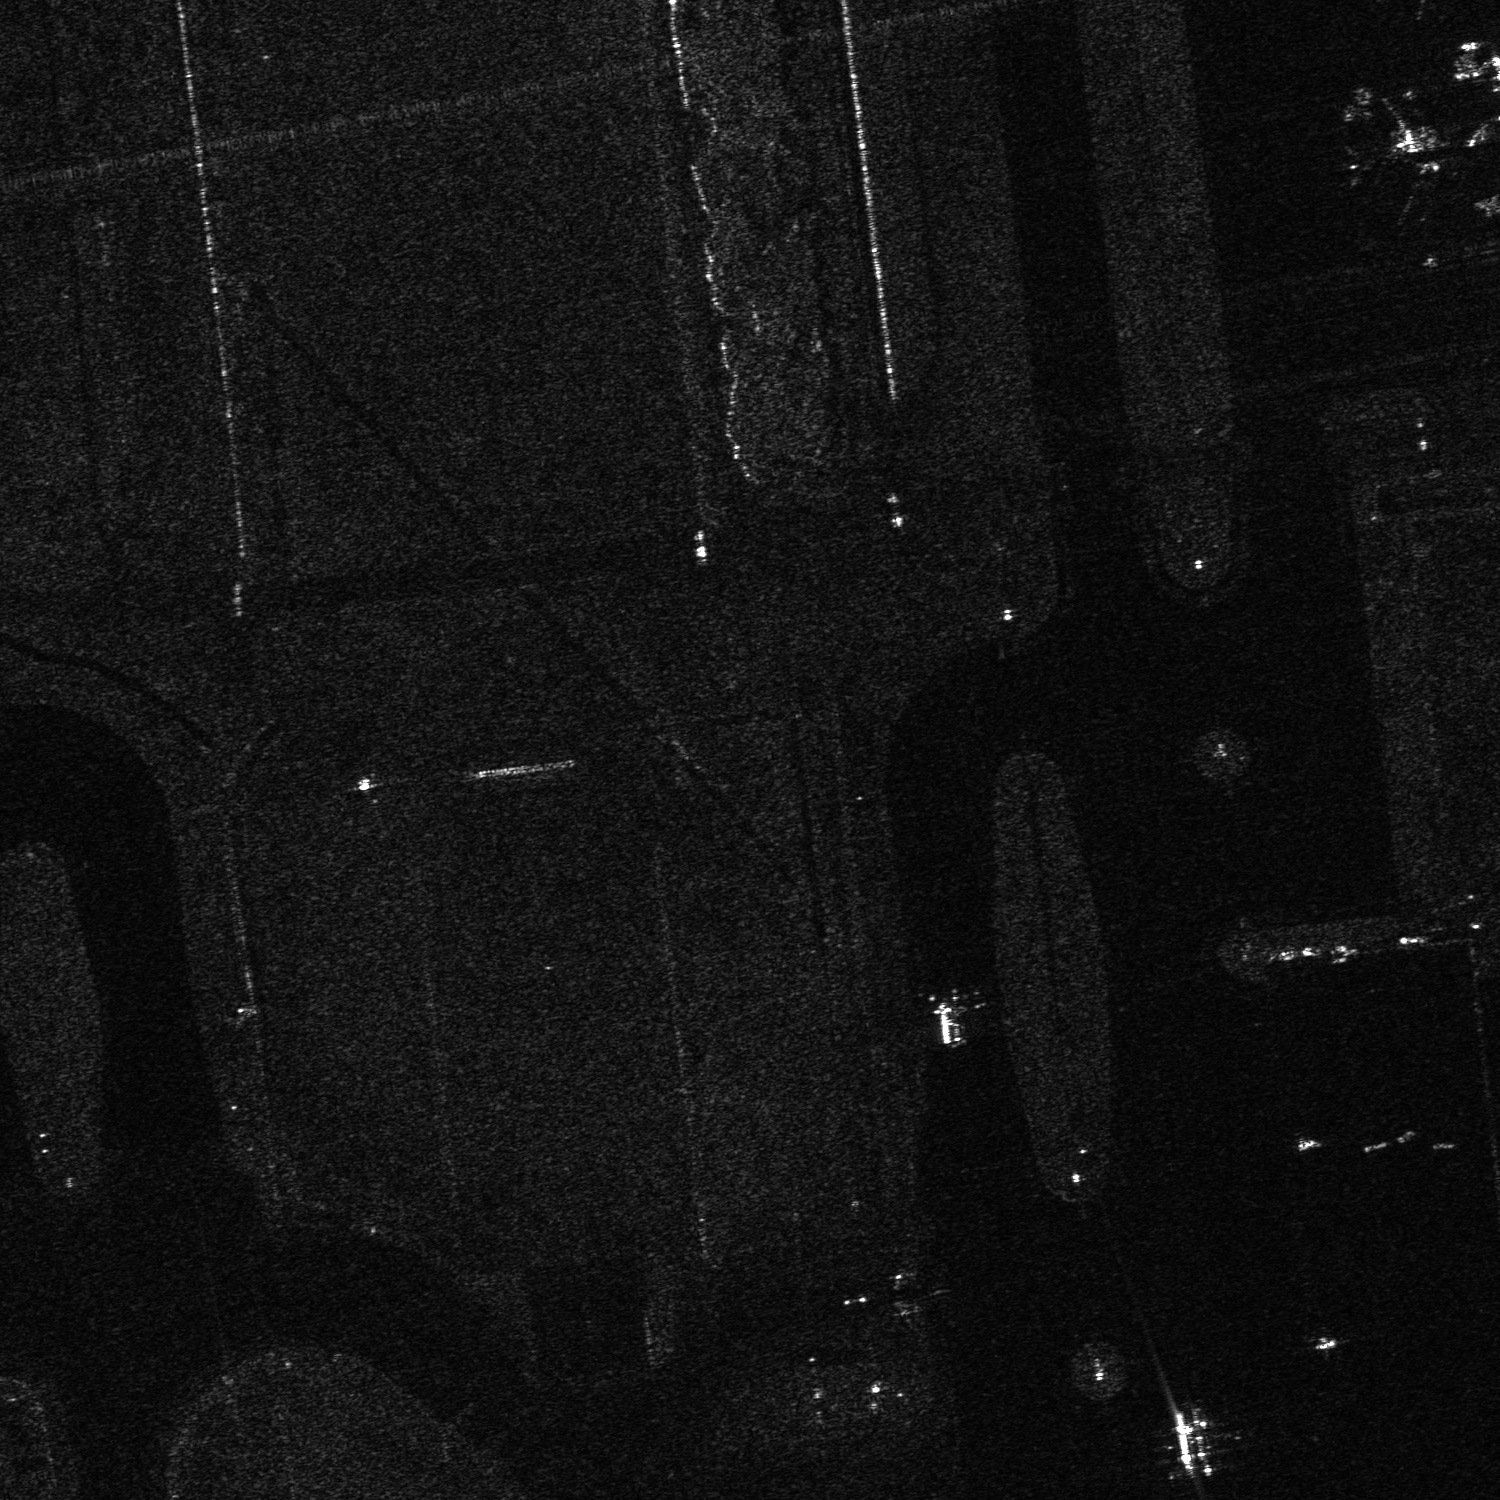Boeing787: (1328, 98, 1468, 232)
